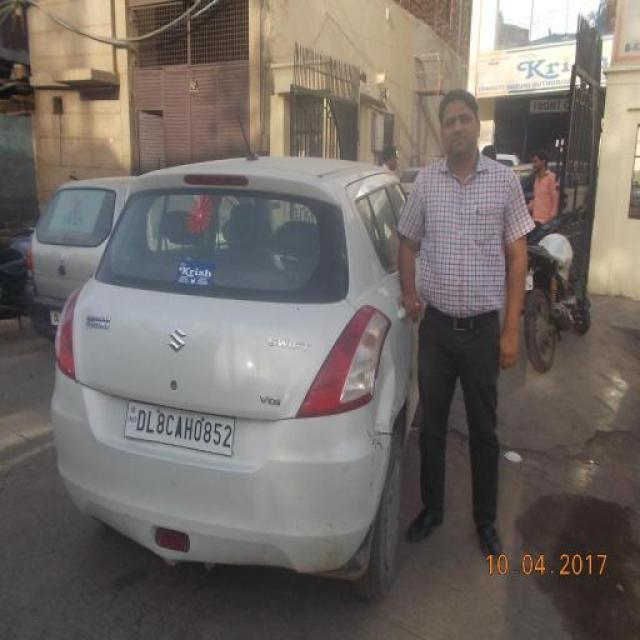dent: (369, 355, 392, 460)
